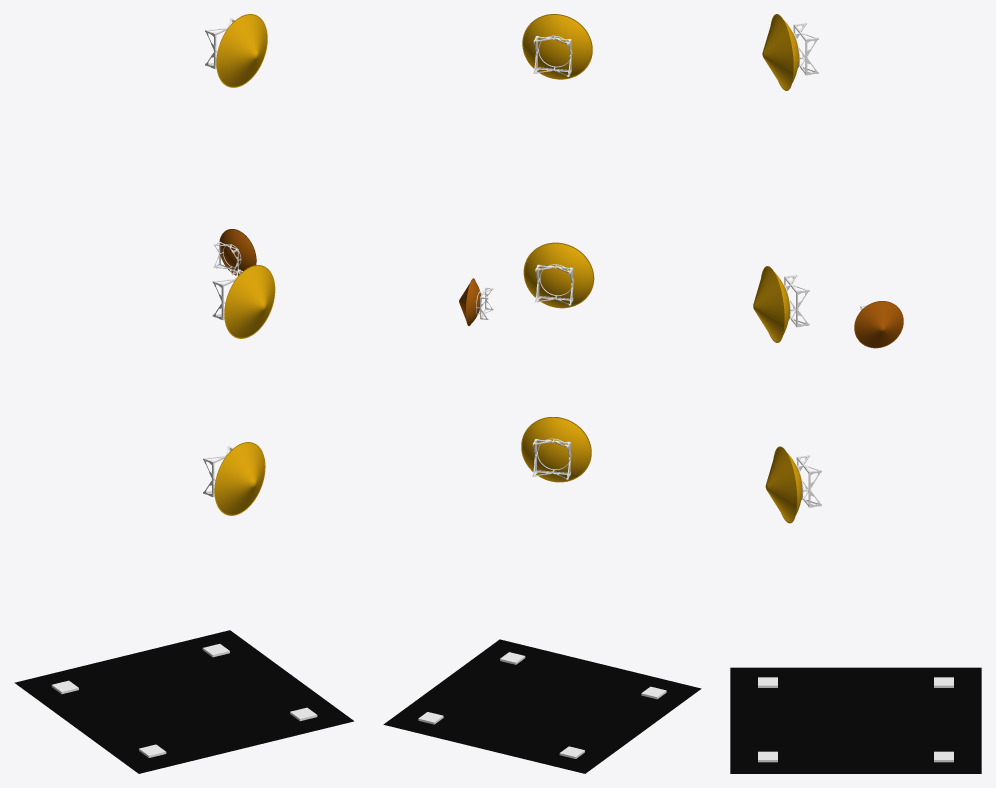
The model's file is 屋敷平.glb.
3 renders of one model, left to right at view 1: azimuth 30°, elevation 25°; view 2: azimuth 150°, elevation 25°; view 3: azimuth 270°, elevation 25°, orthographic. The views are drawn at different scales.
Visible parts, largest first — view 1: group_24, group_53.012, group_53.008, group_53.004, group_53; view 2: group_24, group_53.004, group_53.008, group_53.012, group_53; view 3: group_24, group_53.004, group_53.008, group_53.012, group_53.
Boxes of the visible parts, left/top/right/bottom form: group_24: left=14, top=630, right=353, bottom=773; group_53.012: left=217, top=15, right=266, bottom=86; group_53.008: left=215, top=443, right=264, bottom=514; group_53.004: left=225, top=266, right=274, bottom=337; group_53: left=220, top=229, right=255, bottom=275; group_24: left=383, top=639, right=701, bottom=773; group_53.004: left=524, top=243, right=593, bottom=307; group_53.008: left=522, top=417, right=590, bottom=481; group_53.012: left=523, top=15, right=591, bottom=78; group_53: left=459, top=279, right=481, bottom=325; group_24: left=730, top=667, right=981, bottom=773; group_53.004: left=753, top=267, right=789, bottom=341; group_53.008: left=765, top=447, right=802, bottom=522; group_53.012: left=762, top=15, right=798, bottom=89; group_53: left=855, top=301, right=902, bottom=347.
Bounding box in the file's own units: 10 × 31.54 × 10.
